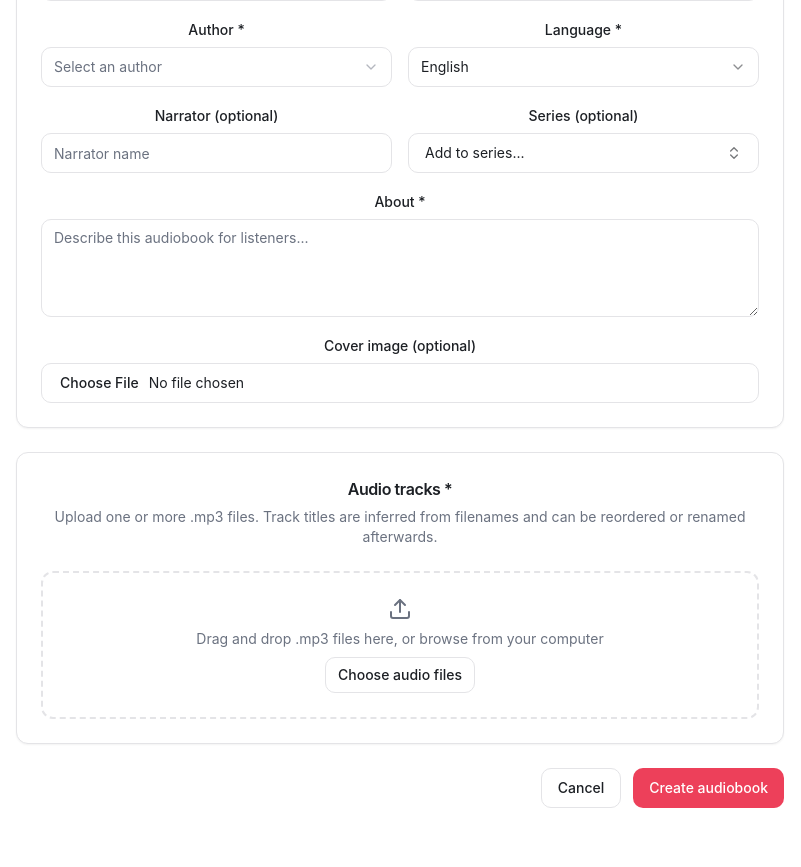
Admin Audiobooks UI › validates required standalone fields on create
(page scrolled)
Click the button "Create audiobook" at (709, 788), box [633,768,784,808]
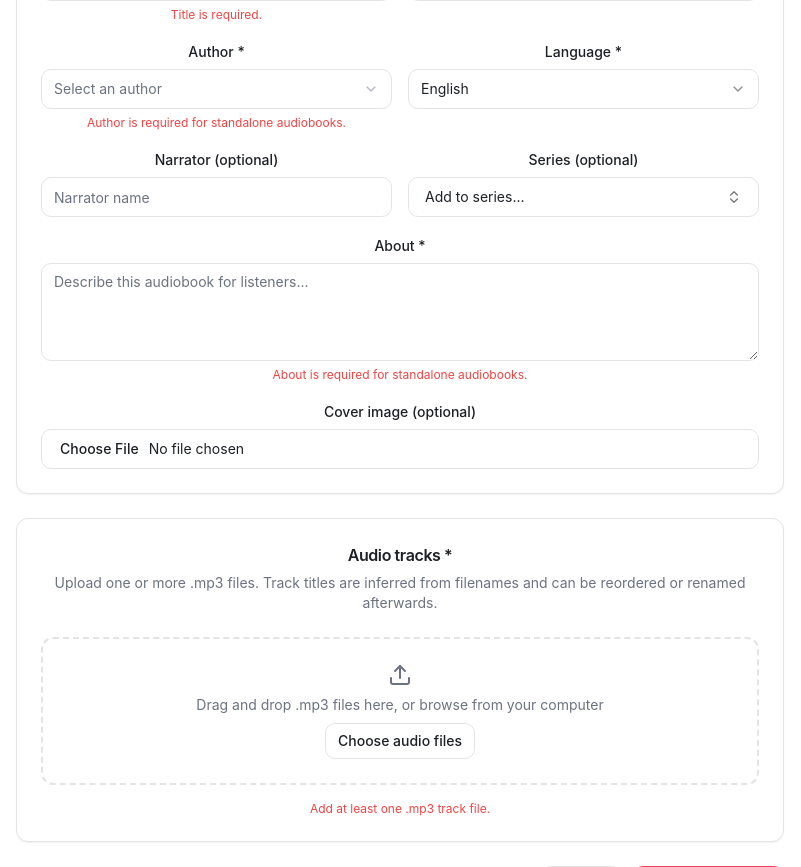
Expected: the text "Title is required." is shown, [171,7,262,22]
Expected: the text "Author is required for standalone audiobooks." is shown, [87,115,346,130]
Expected: the text "About is required for standalone audiobooks." is shown, [272,367,527,382]
